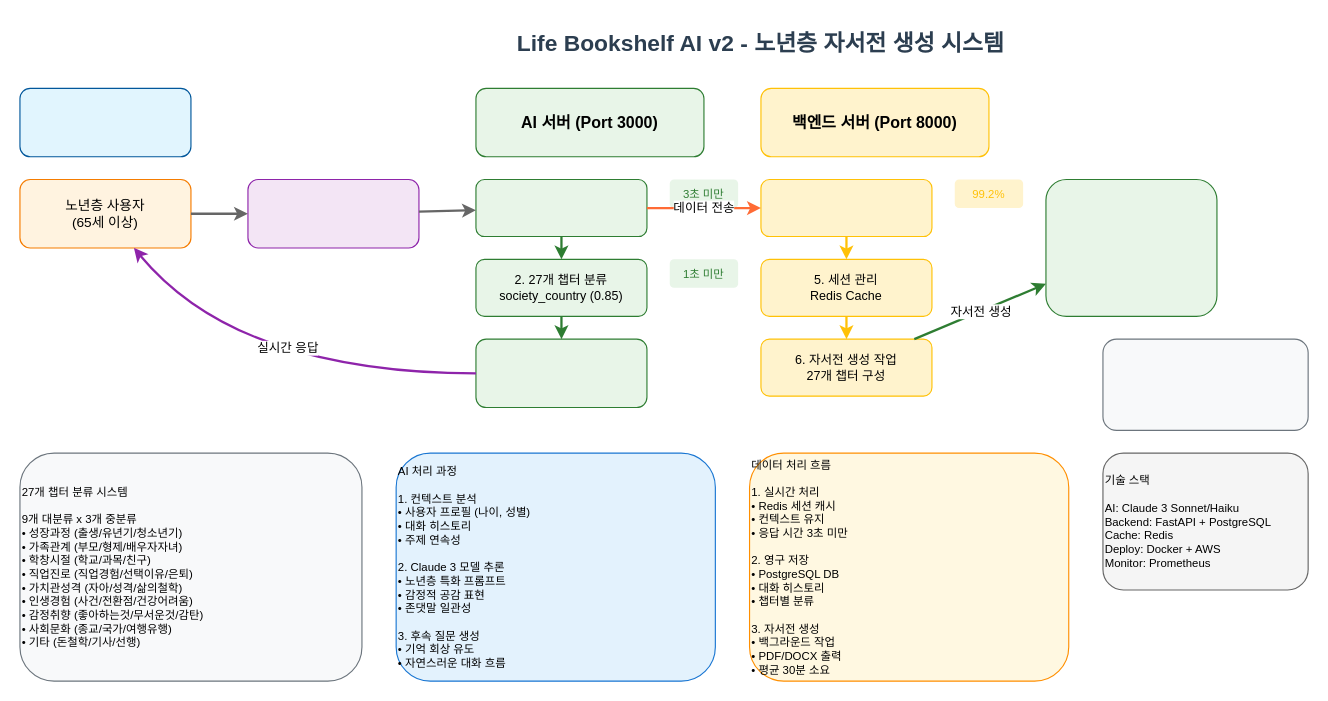
Image size: 1328x701. Some labels were removed from this diagram. The centre of each missing label's shape, as x and y in pixels:
1. 실시간 대화 처리 Claude 3 Sonnet: [561,207]
3. 노년층 특화 응답 그 시절 기억이 생생하게 전해집니다: [561,373]
4. 대화 데이터 저장 PostgreSQL: [846,207]
범례 AI 처리 데이터 관리 사용자 입력 최종 출력: [1205,384]
사용자 레이어: [105,122]
최종 출력물 구조화된 자서전 27개 챕터 구성 PDF/DOCX 형식 평균 50,000자: [1131,247]
텍스트 입력 어린 시절 전쟁 때 부산으로 피난갔어요: [333,213]
